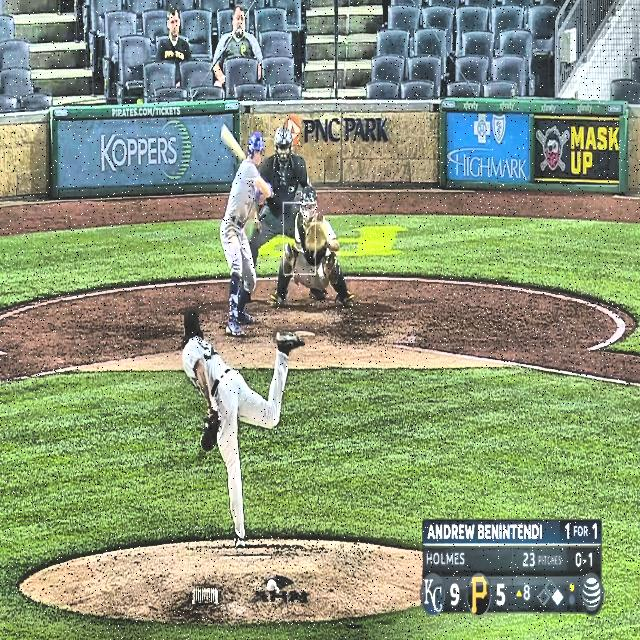baseball: (304, 210, 310, 221)
